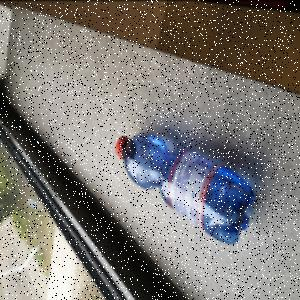Plastic-bottle: (117, 133, 257, 245)
